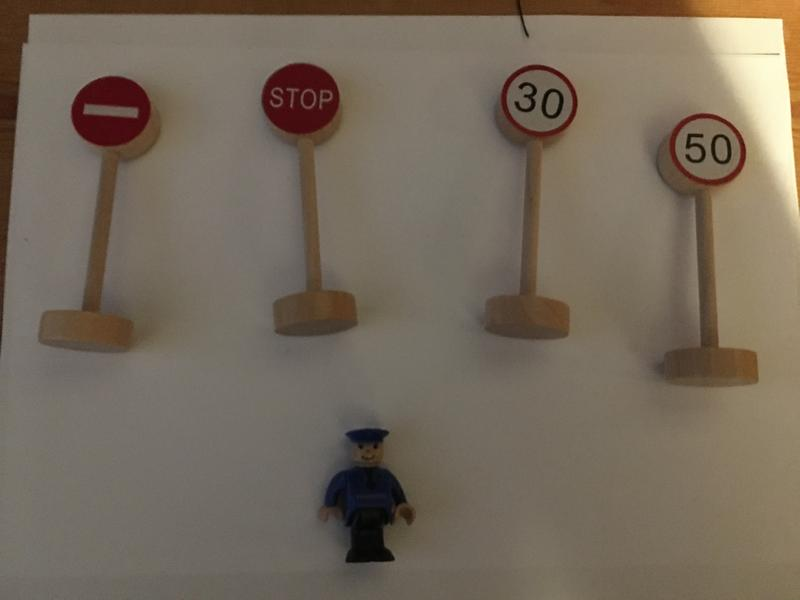Traffic_Sign_30: (501, 64, 578, 139)
Traffic_Sign_50: (669, 114, 747, 185)
Traffic_Sign_No_Entry: (71, 77, 151, 147)
Traffic_Sign_Stop: (261, 63, 340, 137)
person: (317, 428, 418, 564)
